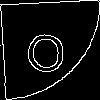O: (25, 25, 67, 73)
